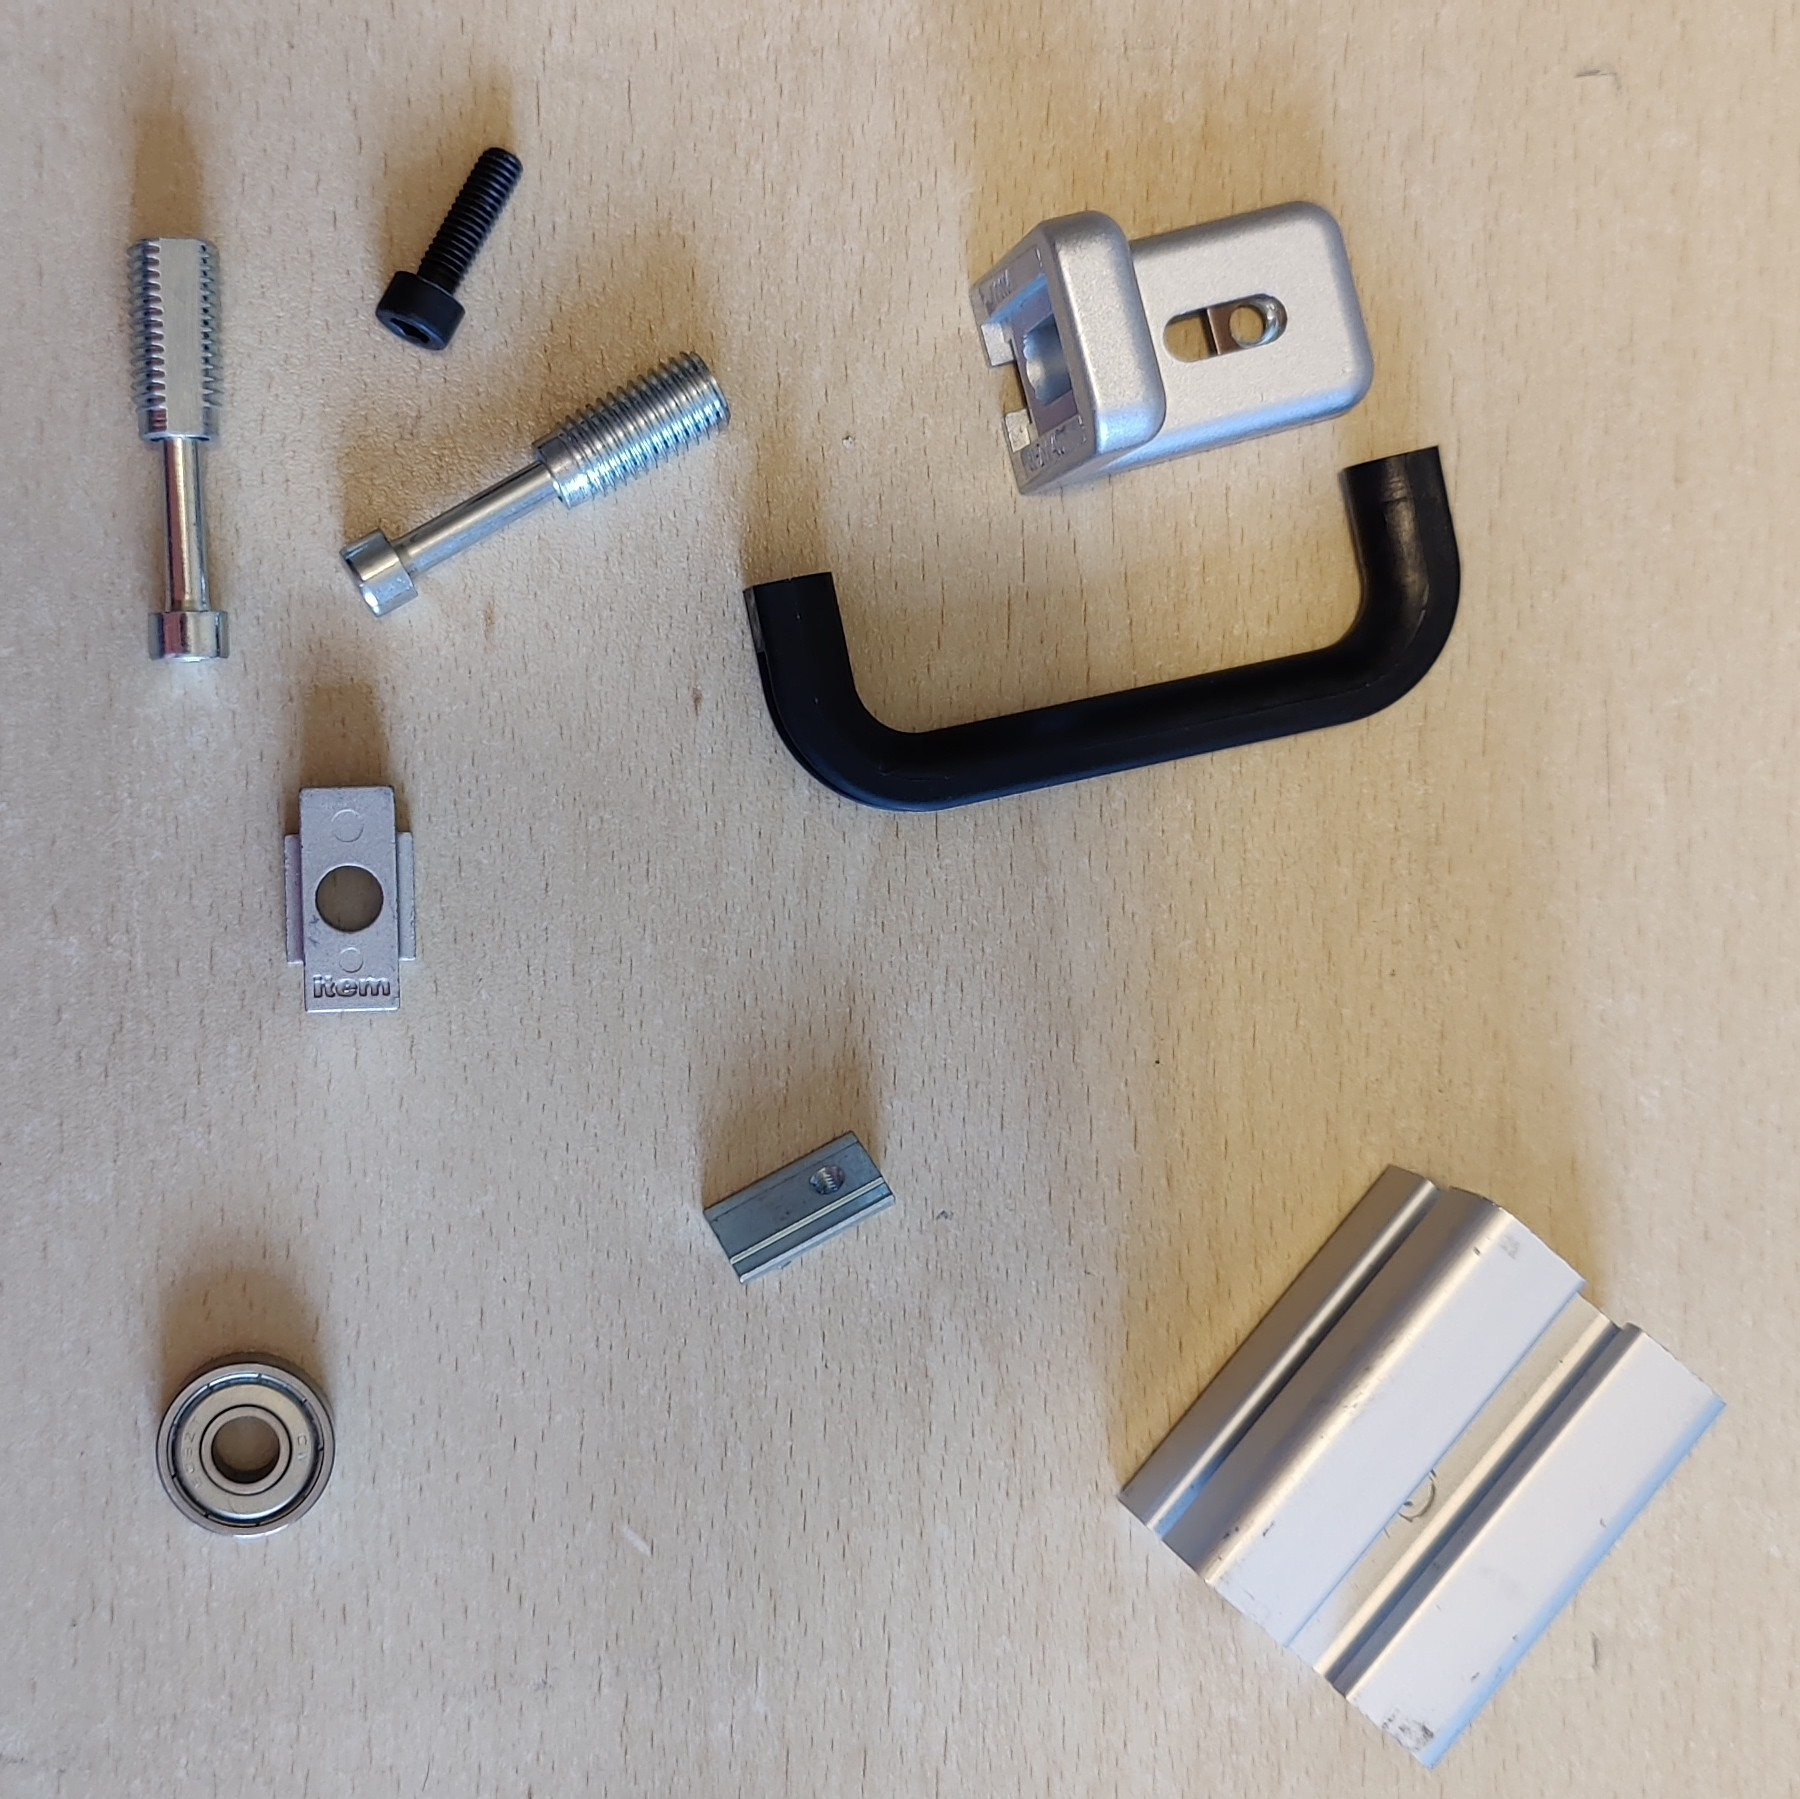Aluminium Extension: (1112, 1161, 1729, 1773)
Ball Bearing: (155, 1349, 343, 1542)
Multiwinkel: (967, 198, 1373, 498)
Pull Handle: (743, 442, 1462, 814)
Shoulder Socket Head Cap Screw: (336, 348, 733, 619), (117, 232, 235, 666)
Socket Head Cap Screw: (374, 142, 524, 353)
T Nut Square: (282, 781, 423, 1021)
T Spring Nut: (700, 1125, 901, 1292)
